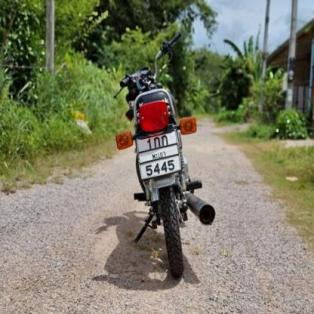Motocicleta: (110, 31, 220, 285)
